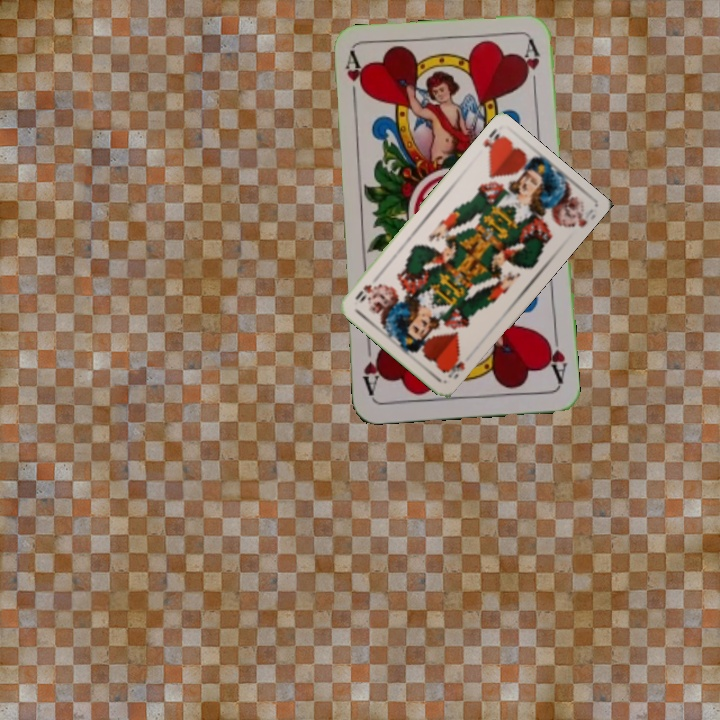HA: (541, 327, 570, 386), (341, 50, 366, 109)
HO: (479, 125, 507, 159), (440, 353, 467, 382)
